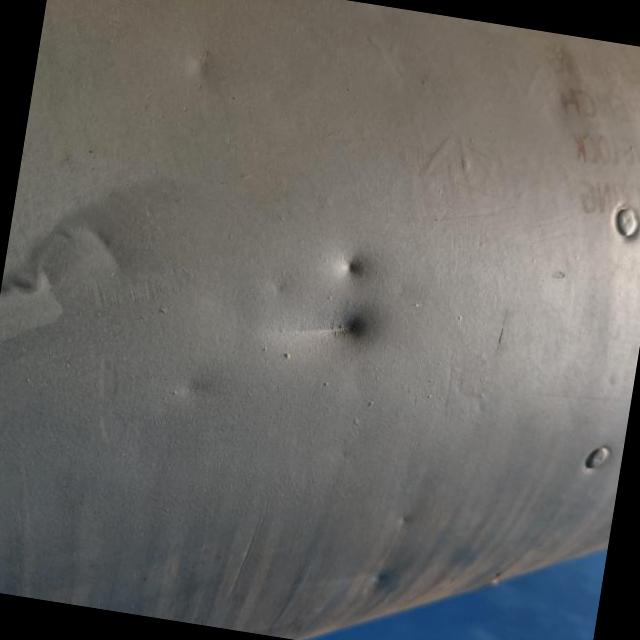dent: (0, 177, 144, 350), (278, 291, 384, 365), (154, 33, 238, 110), (354, 538, 412, 618), (326, 230, 390, 296), (167, 358, 232, 412), (388, 498, 434, 540)
